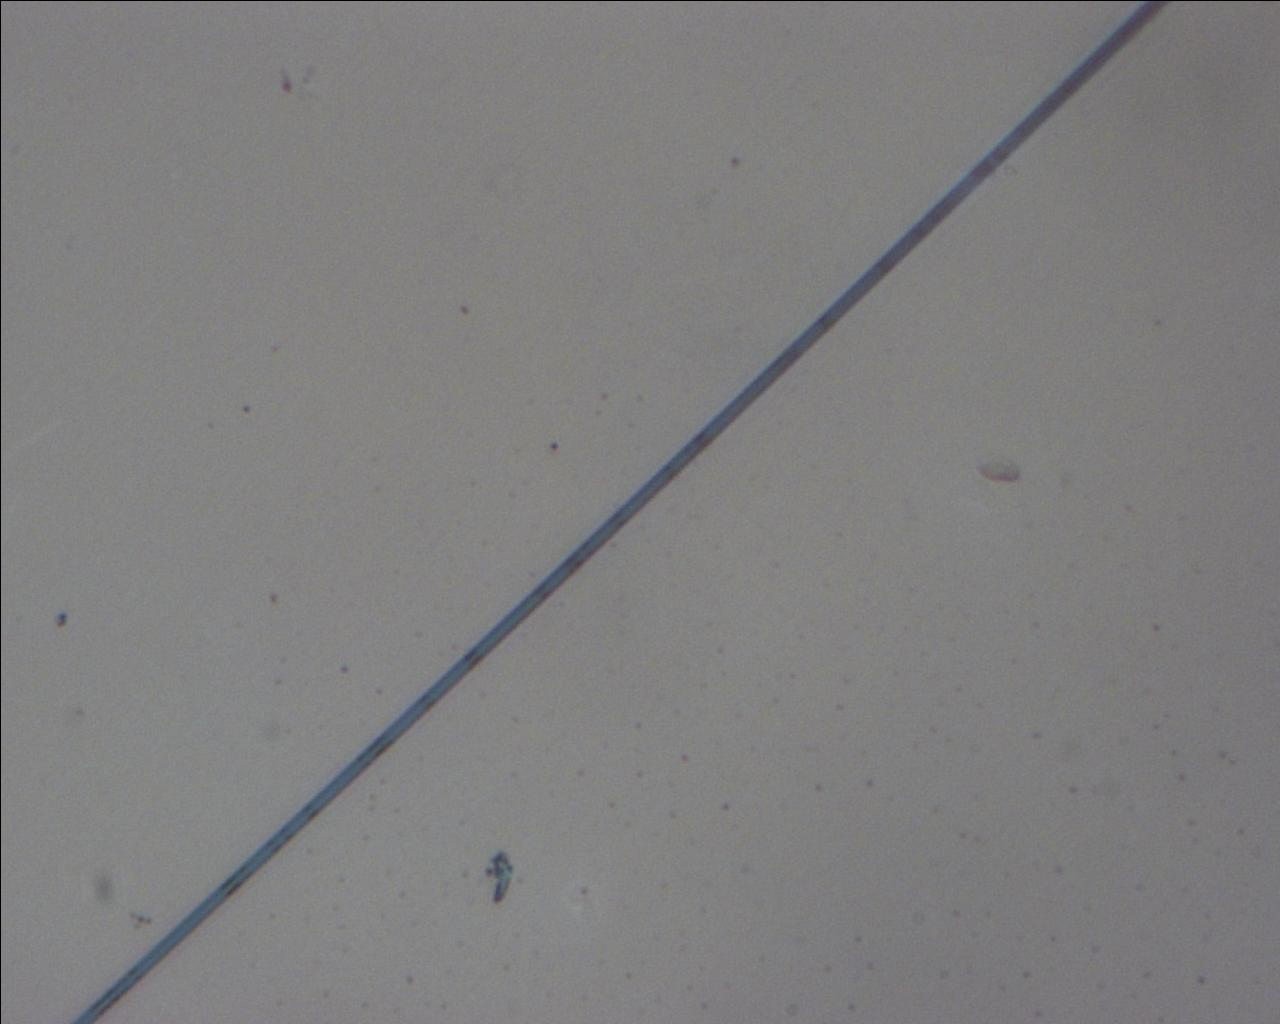fiber: (64, 0, 1174, 1024)
